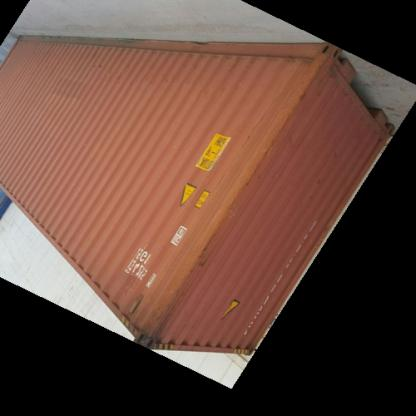Damage: (189, 145, 255, 274), (260, 50, 338, 154), (138, 266, 192, 353)
